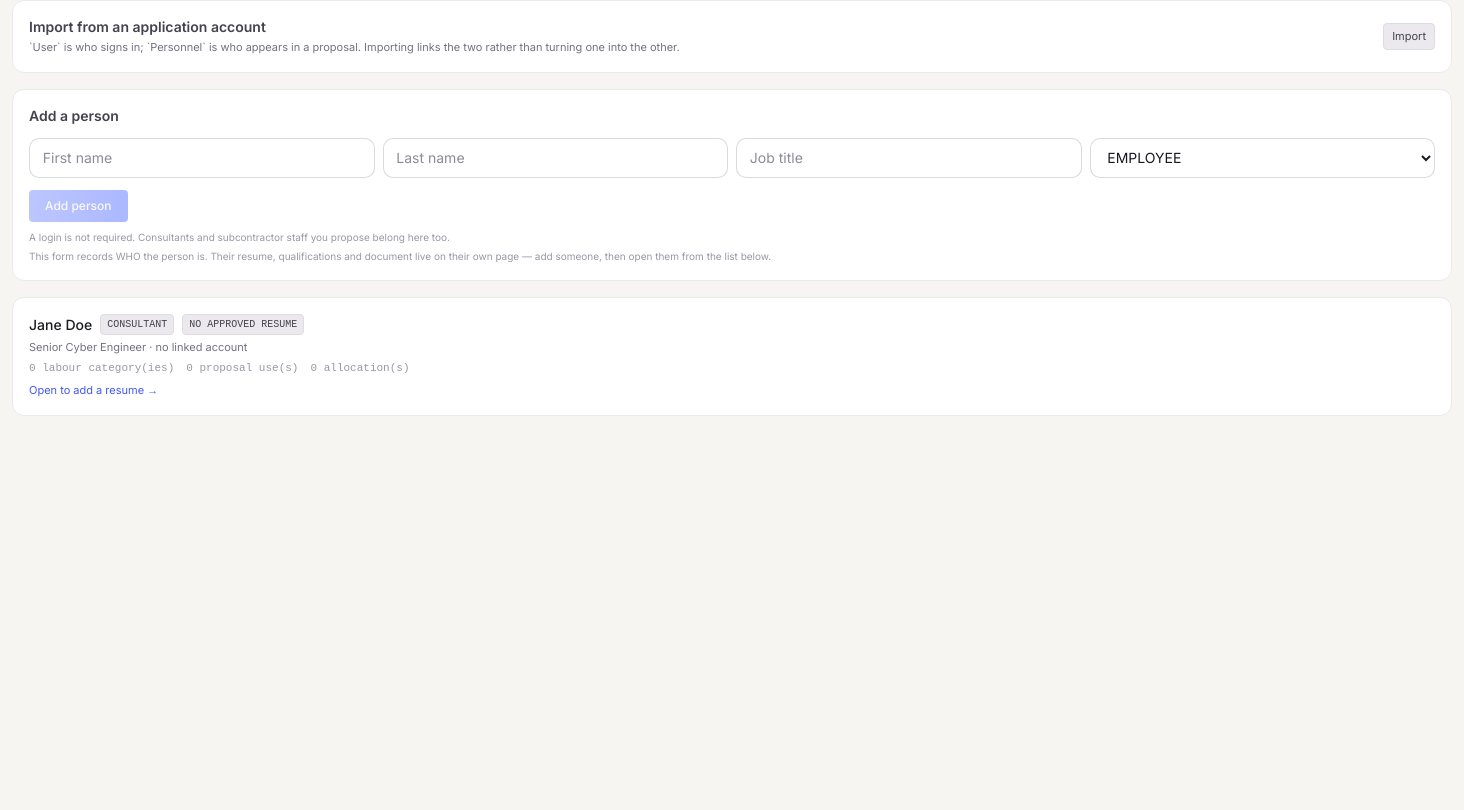
Test: Personnel detail › shows an unverified qualification as unverified and offers verification
Click the text "Jane Doe" at (61, 325), box [29,315,92,335]
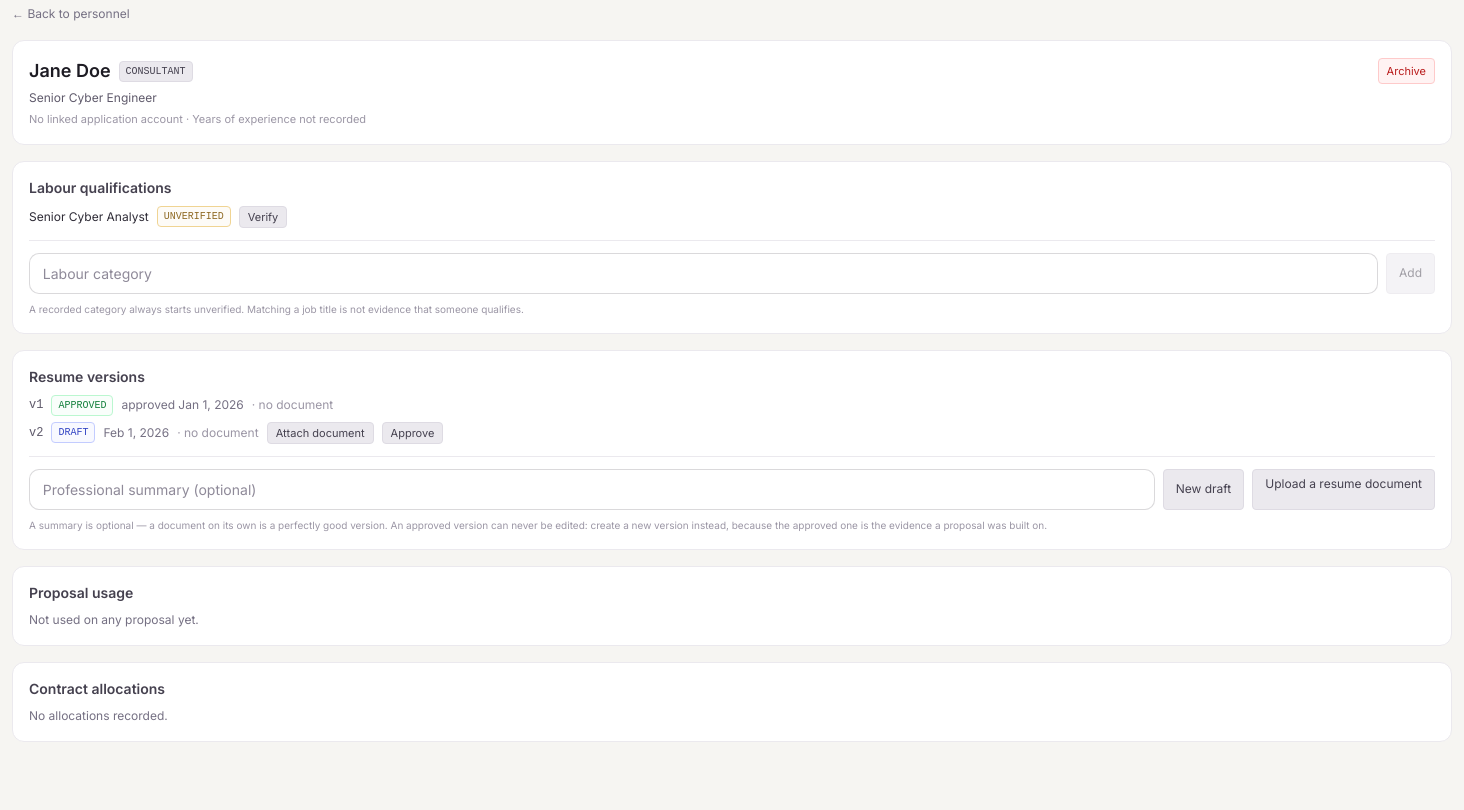
Result: the text "UNVERIFIED" is shown at [157,206,231,227]
Result: the text "Matching a job title is not evidence" is shown at [29,303,524,315]
